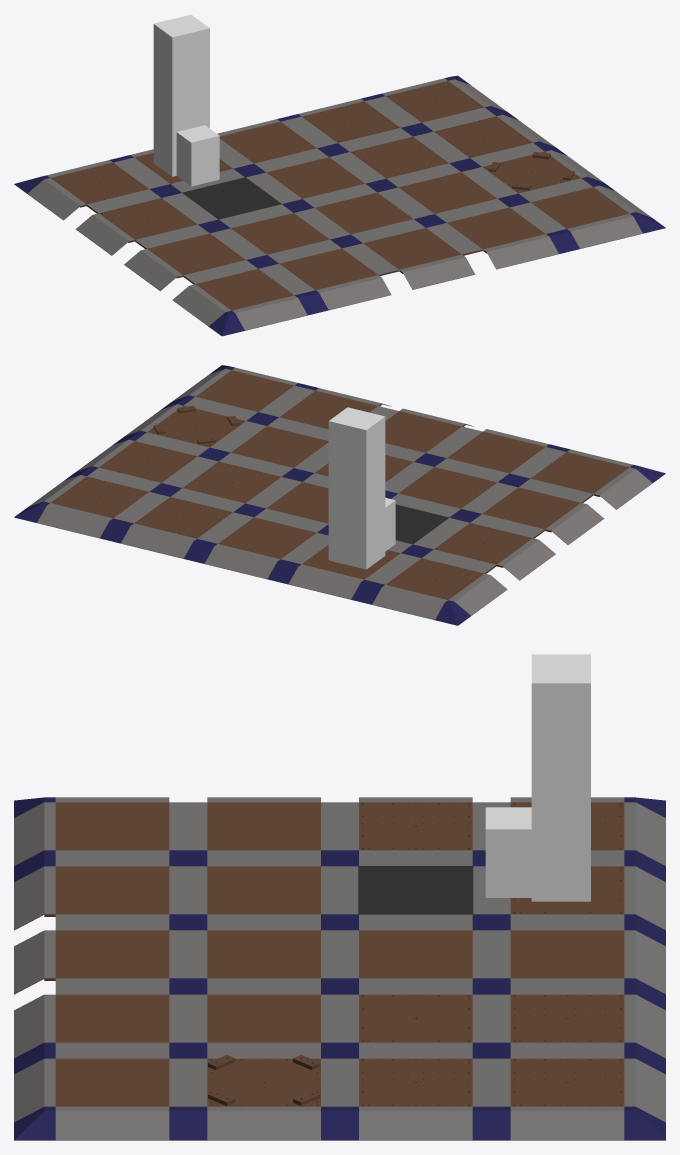
The model's file is floor_irb1200_collision.dae.
3 views of the same model, one above another, from view 1: azimuth 30°, elevation 25°; view 2: azimuth 150°, elevation 25°; view 3: azimuth 270°, elevation 25° (orthographic). The views are drawn at different scales.
Visible parts, largest first — view 1: node, Cube, Cube.001, Plane.001; view 2: node, Cube, Plane.001, Cube.001; view 3: node, Cube, Plane.001, Cube.001.
Boxes of the visible parts, x1=… form: node: x1=14, y1=75, x2=665, y2=336; Cube: x1=153, y1=14, x2=209, y2=176; Cube.001: x1=176, y1=125, x2=219, y2=186; Plane.001: x1=182, y1=177, x2=281, y2=219; node: x1=14, y1=365, x2=665, y2=625; Cube: x1=328, y1=407, x2=385, y2=569; Plane.001: x1=395, y1=504, x2=449, y2=544; Cube.001: x1=385, y1=497, x2=395, y2=551; node: x1=14, y1=797, x2=665, y2=1140; Cube: x1=531, y1=654, x2=590, y2=901; Plane.001: x1=358, y1=866, x2=473, y2=914; Cube.001: x1=485, y1=807, x2=531, y2=897.
Bounding box in the file's own units: 5.3 × 4.3 × 1.71.
